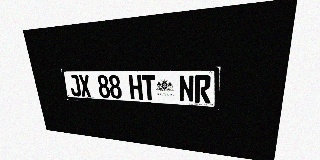8: (108, 75, 122, 99), (97, 75, 110, 98)
H: (128, 75, 143, 100)
J: (68, 75, 81, 96)
N: (179, 75, 194, 103)
R: (194, 75, 211, 103)
T: (141, 75, 156, 100)
X: (78, 75, 92, 97)
